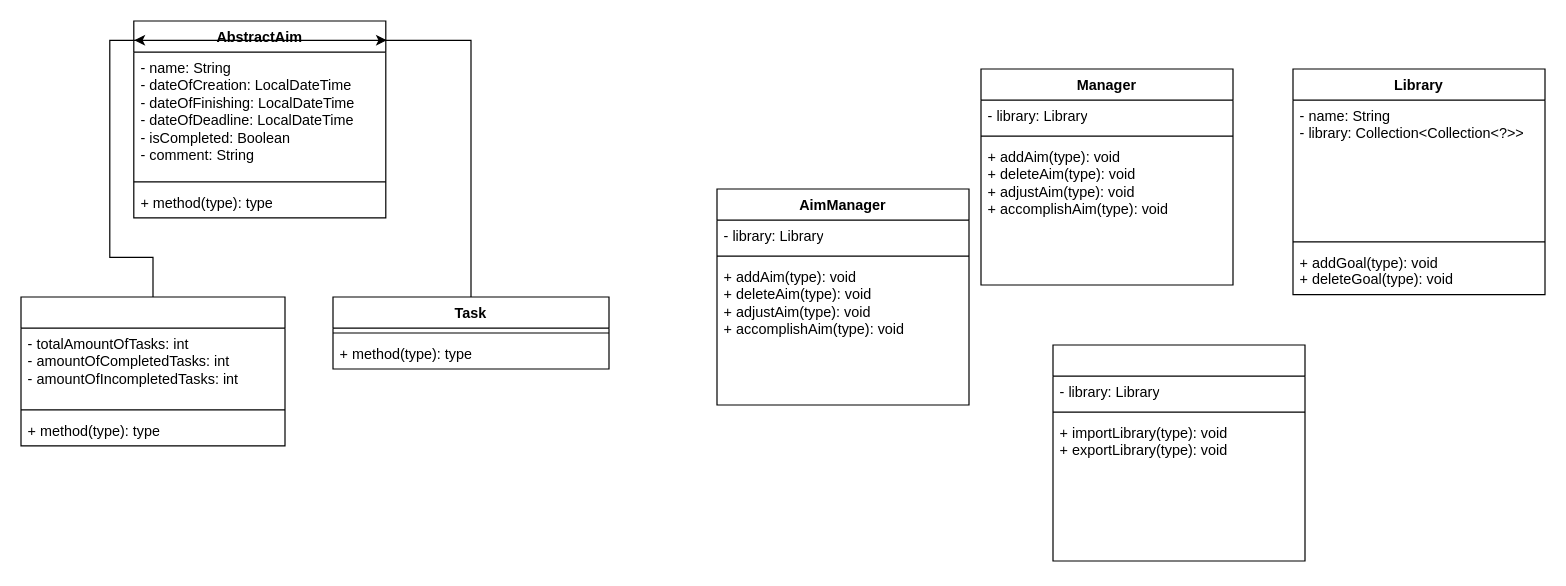
This 1566x586 diagram has some shape labels left out. Each missing label, with the box of its shape:
Goal: (20, 296, 285, 446)
Loader: (1052, 344, 1305, 561)
